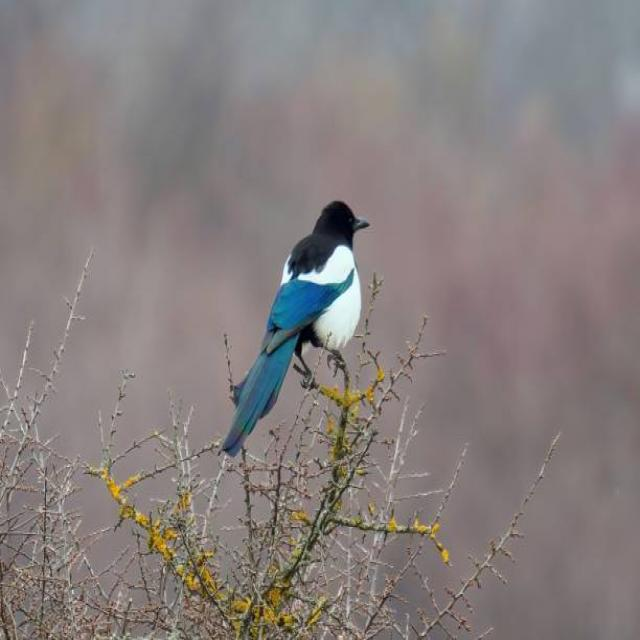Magpie: (220, 200, 373, 458)
